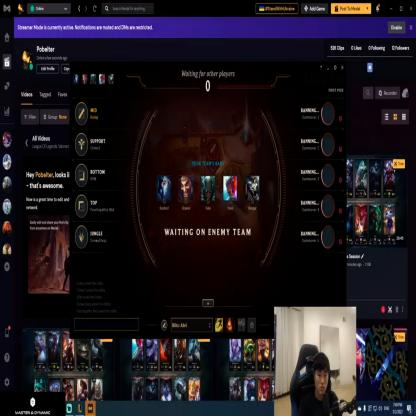streamer: (297, 353, 341, 416)
